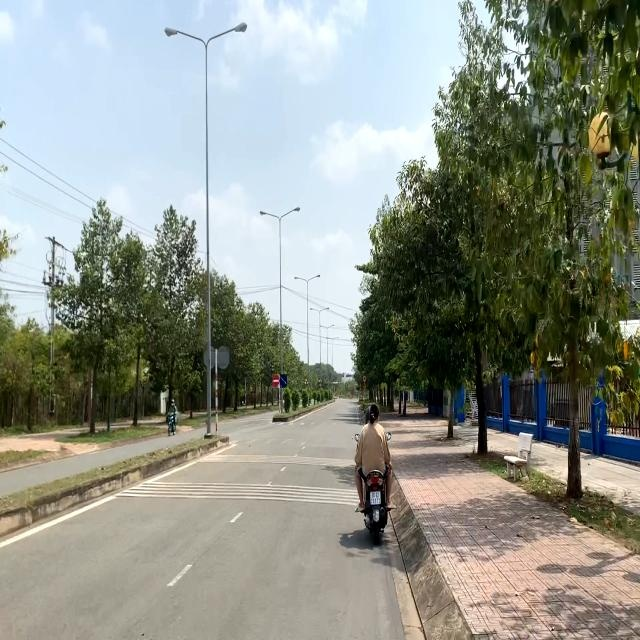bien_cam: (272, 374, 280, 388), (280, 374, 287, 388)
